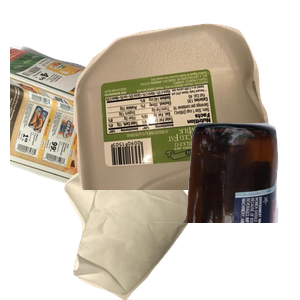glass: (87, 120, 300, 300)
paper: (10, 42, 224, 222)
plastic: (71, 21, 300, 201)
trash: (62, 120, 251, 300)
